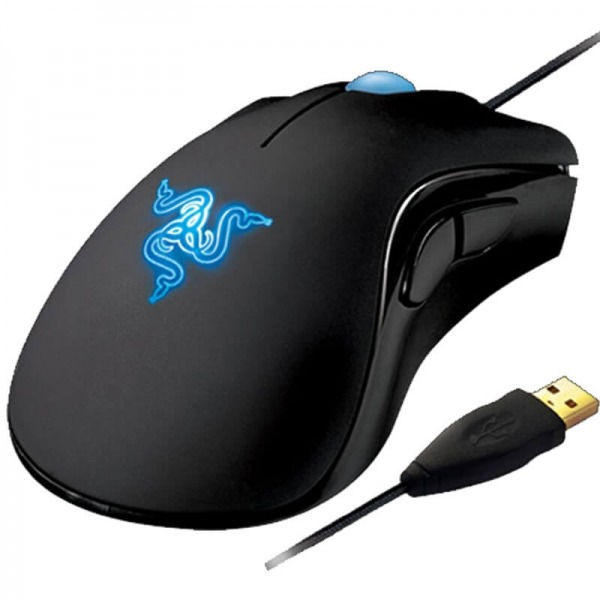mouse: (4, 70, 579, 517)
